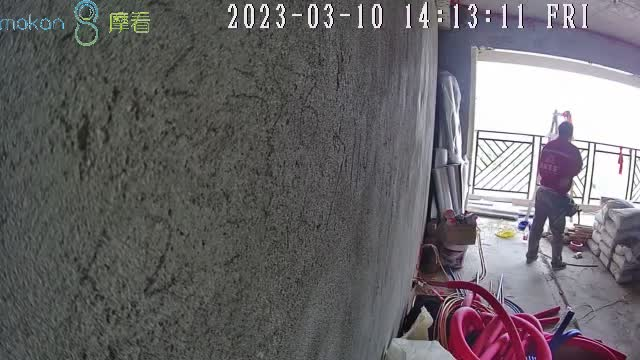people: (525, 121, 584, 270)
window: (476, 58, 640, 145)
